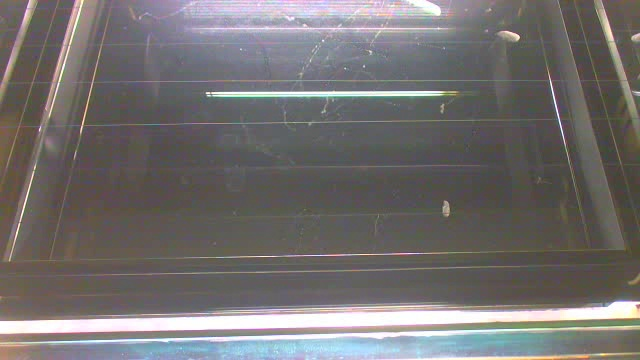Alfa: (407, 1, 443, 19), (496, 28, 521, 44), (441, 199, 451, 220)
